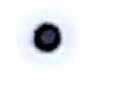cancer: (11, 6, 85, 73)
